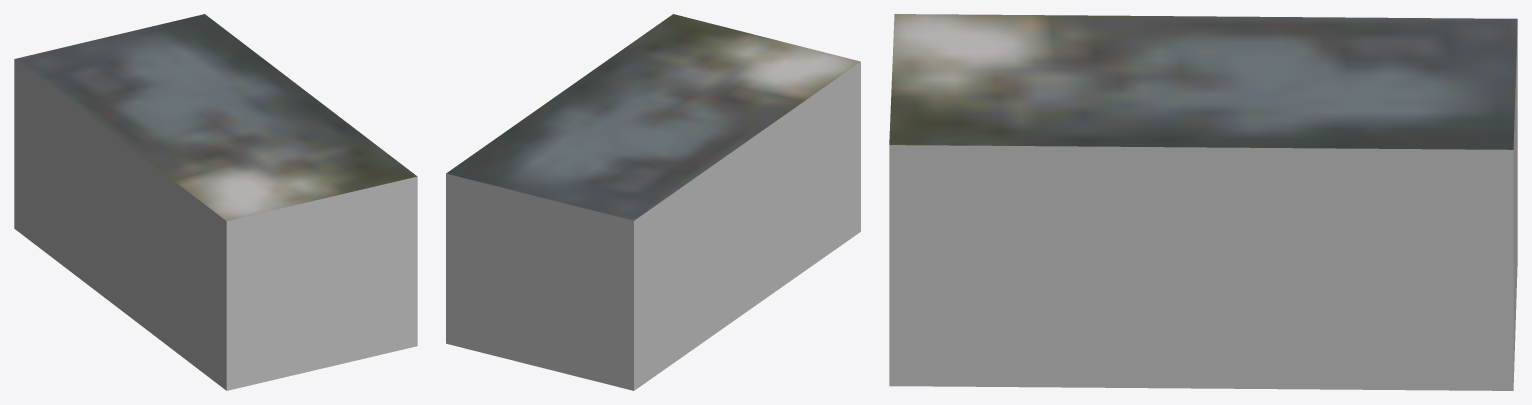
File: DEBW_0010007Txee.gltf
The picture shows the model from 3 angles, left to right: view 1: azimuth 30°, elevation 25°; view 2: azimuth 150°, elevation 25°; view 3: azimuth 270°, elevation 25°; orthographic projection. The views are drawn at different scales.
Parts seen in each view (by area): view 1: Z_UP; view 2: Z_UP; view 3: Z_UP.
Boxes of the visible parts, x1,y1,x2,y2 form: Z_UP: (14,14,417,390); Z_UP: (446,14,860,390); Z_UP: (889,14,1517,390).
Size of the model in its own units: 3.09 by 2.56 by 6.04.
2 materials, 1 textured.
